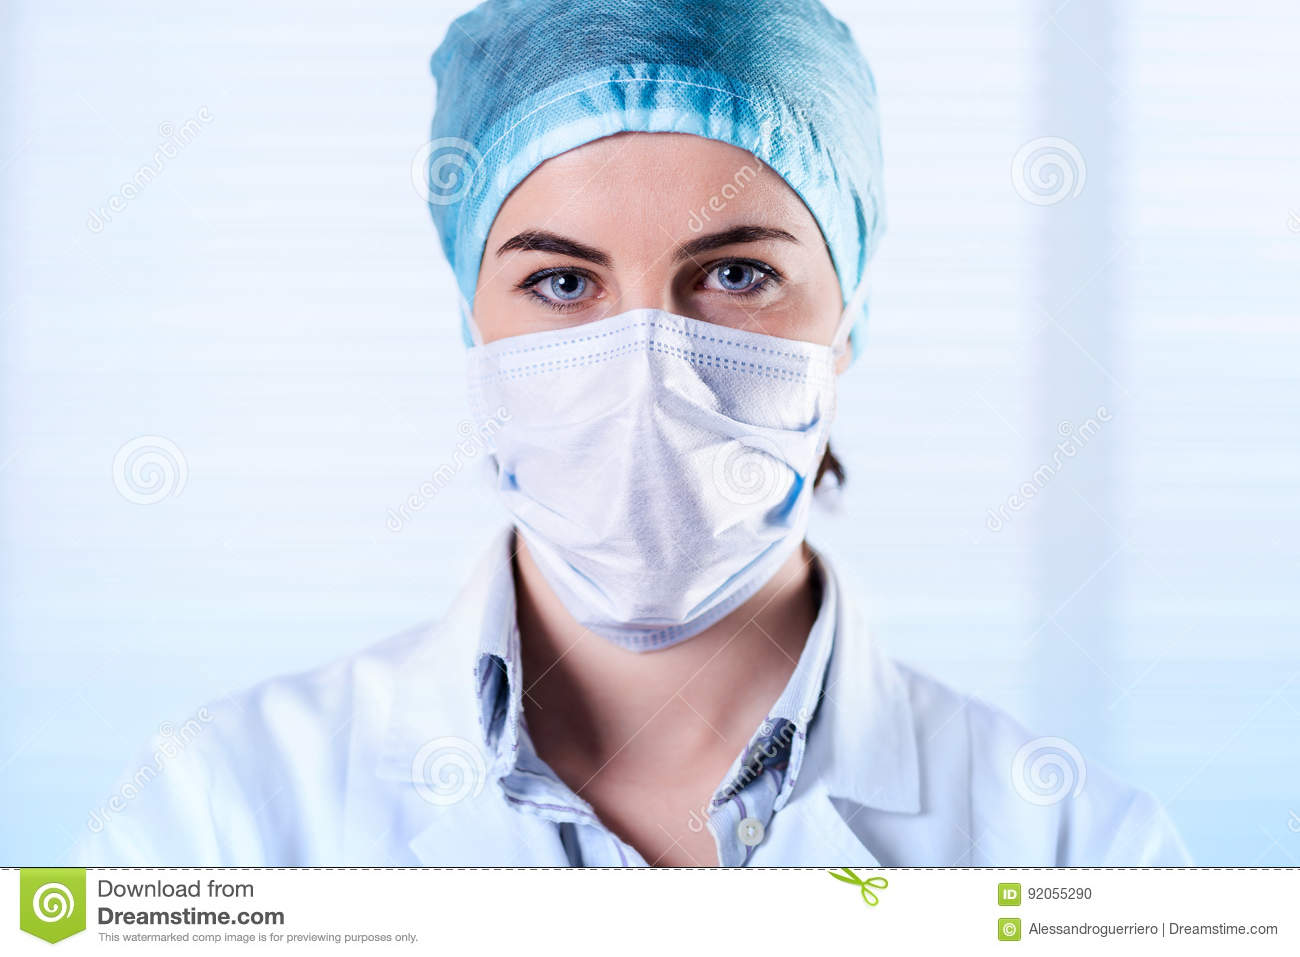mask: (451, 321, 854, 651)
